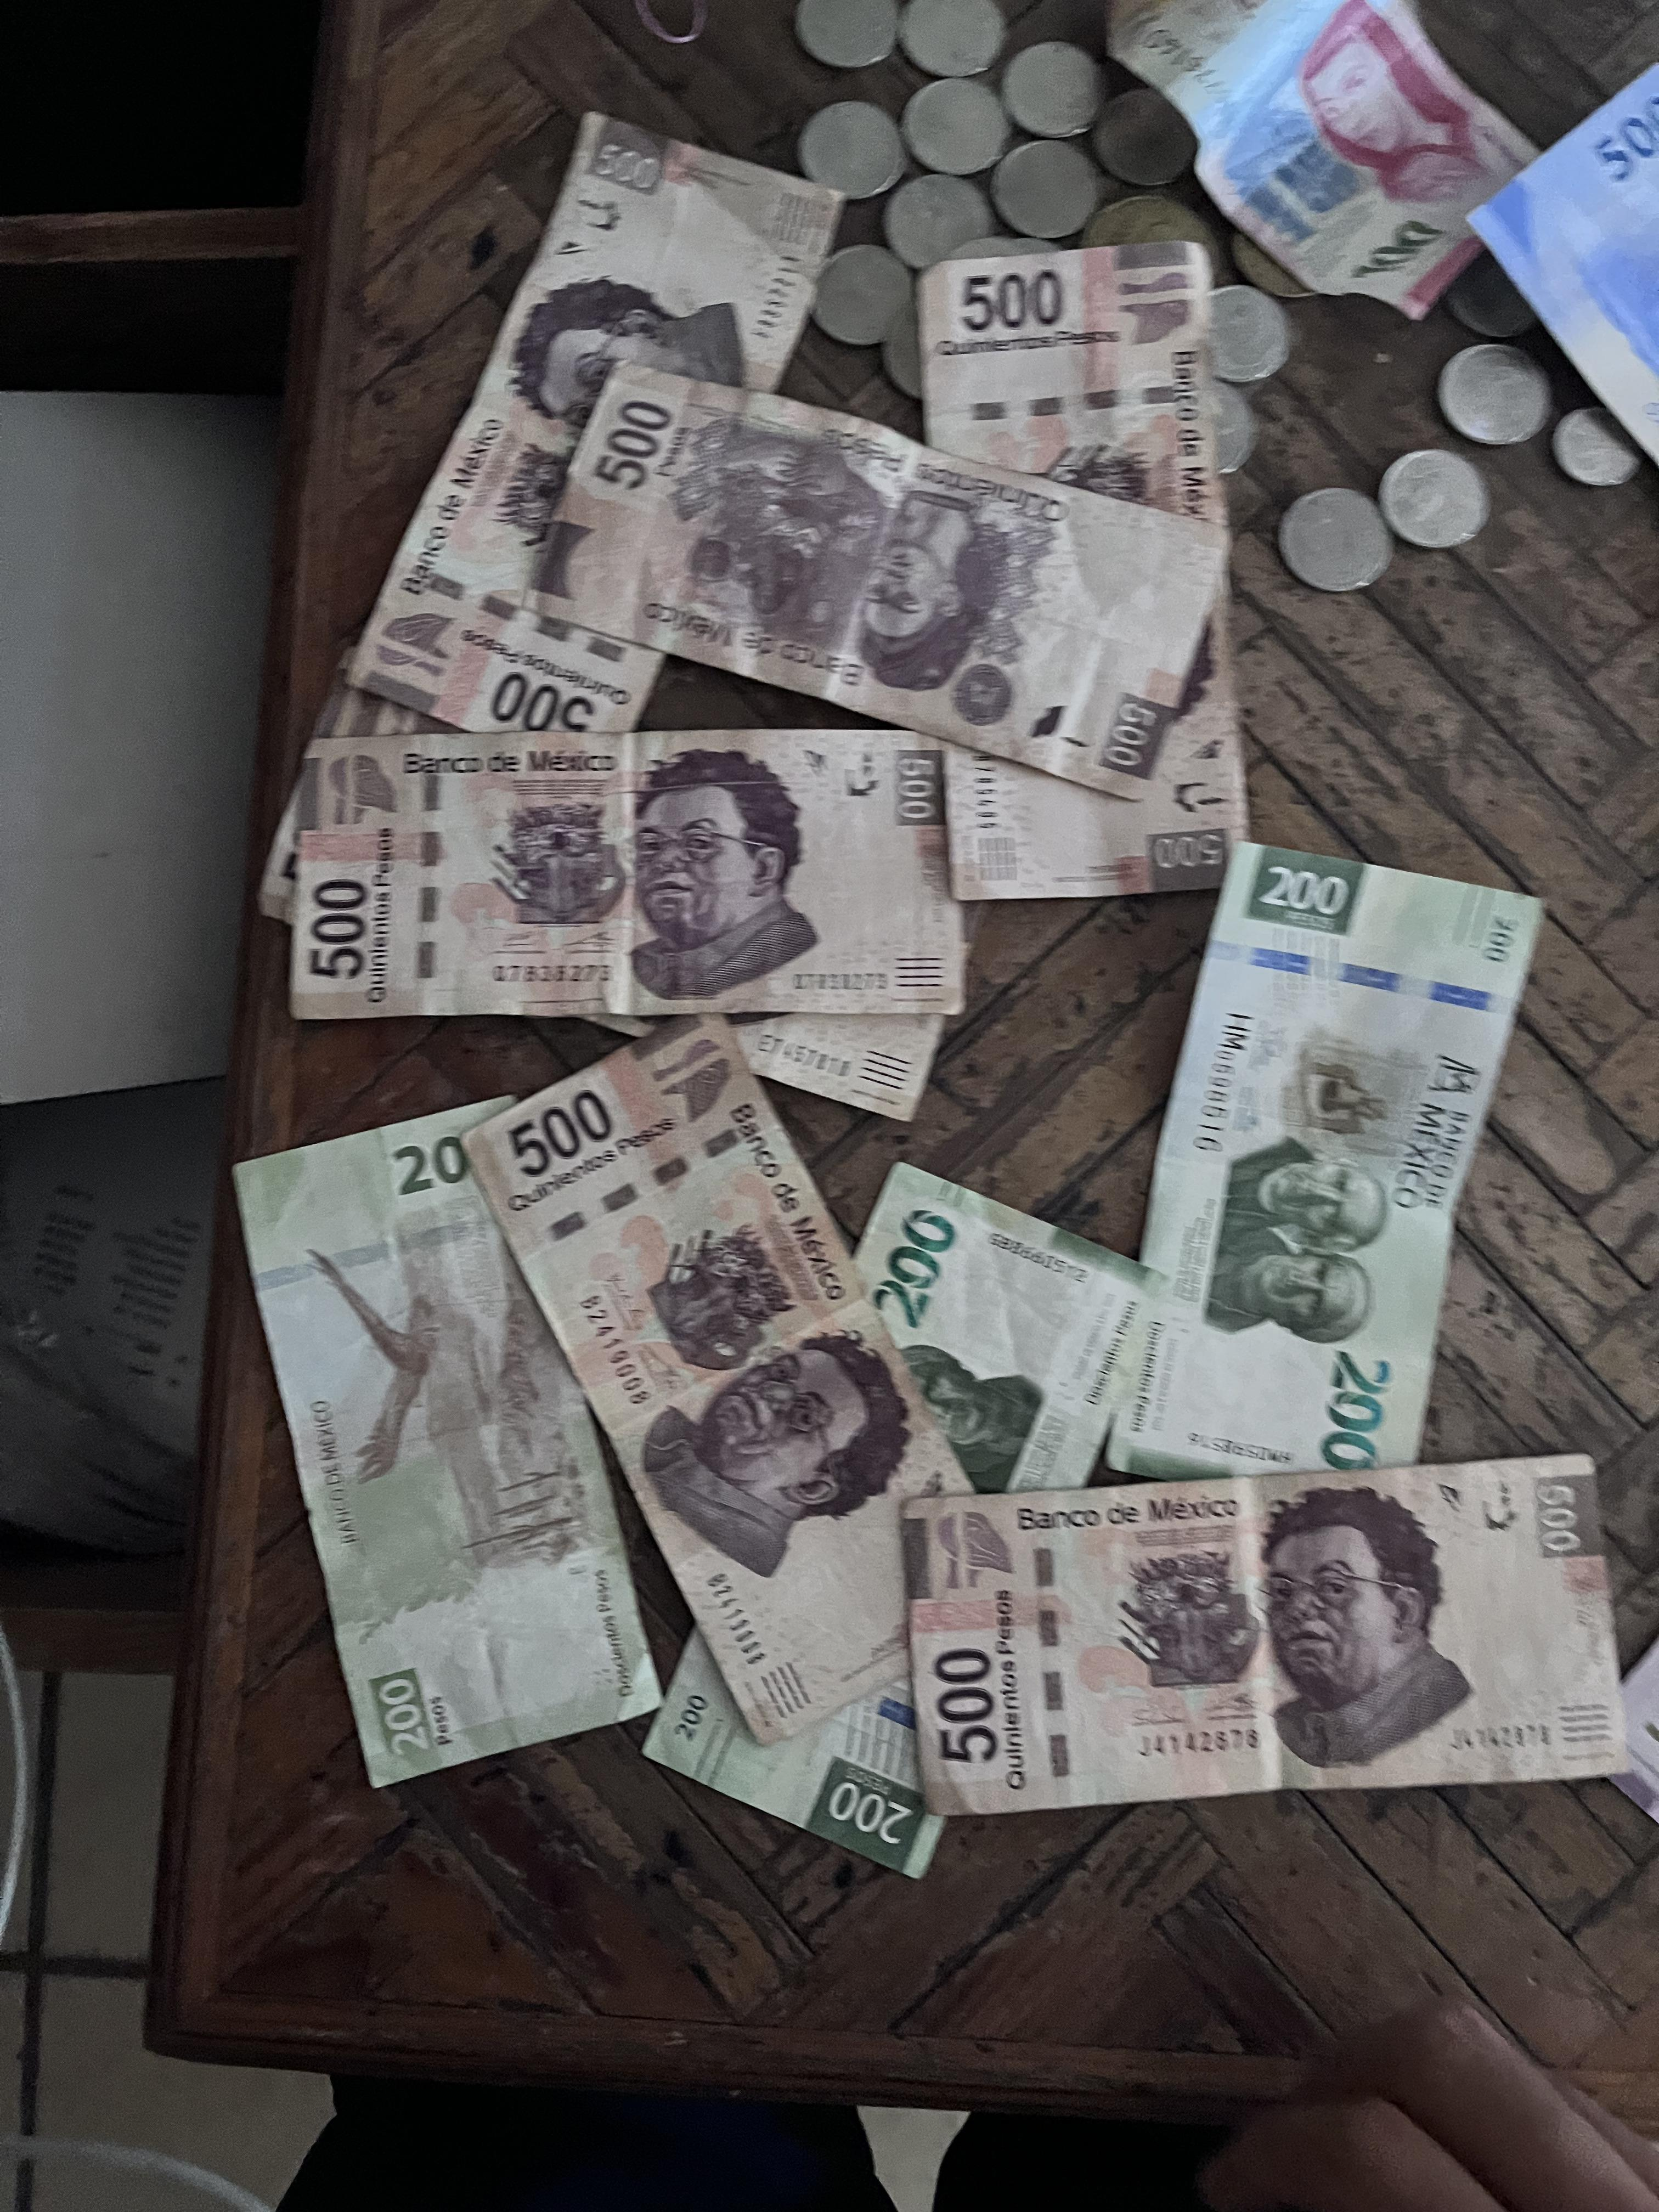100: (1082, 0, 1544, 348)
200: (667, 1120, 1155, 1914), (178, 1103, 643, 1768), (1131, 806, 1520, 1508)
500: (416, 1022, 1006, 1742), (521, 345, 1251, 820), (357, 85, 857, 735), (875, 1449, 1659, 1801), (890, 244, 1269, 906), (249, 712, 978, 1033)
500 nuevo: (1471, 0, 1659, 495)
